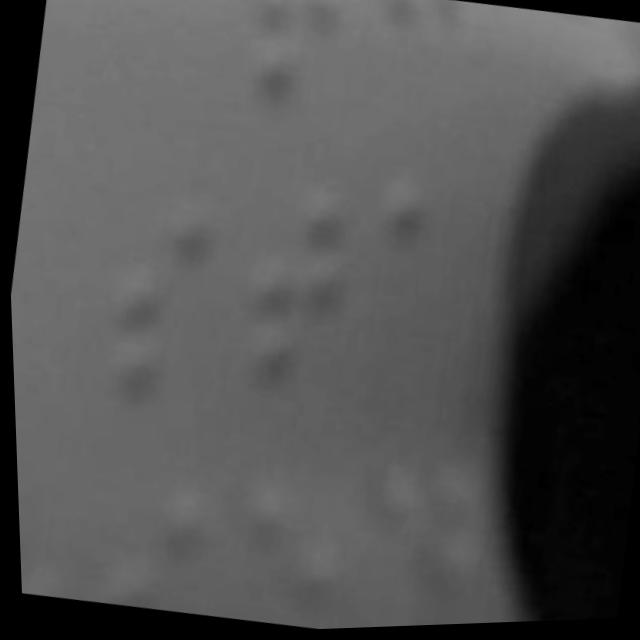braiile: (354, 164, 496, 397), (90, 189, 227, 417), (226, 183, 365, 404), (355, 421, 500, 630), (220, 454, 363, 634), (91, 458, 231, 621), (350, 0, 488, 125), (233, 0, 359, 120), (27, 0, 104, 130), (14, 482, 85, 601)
